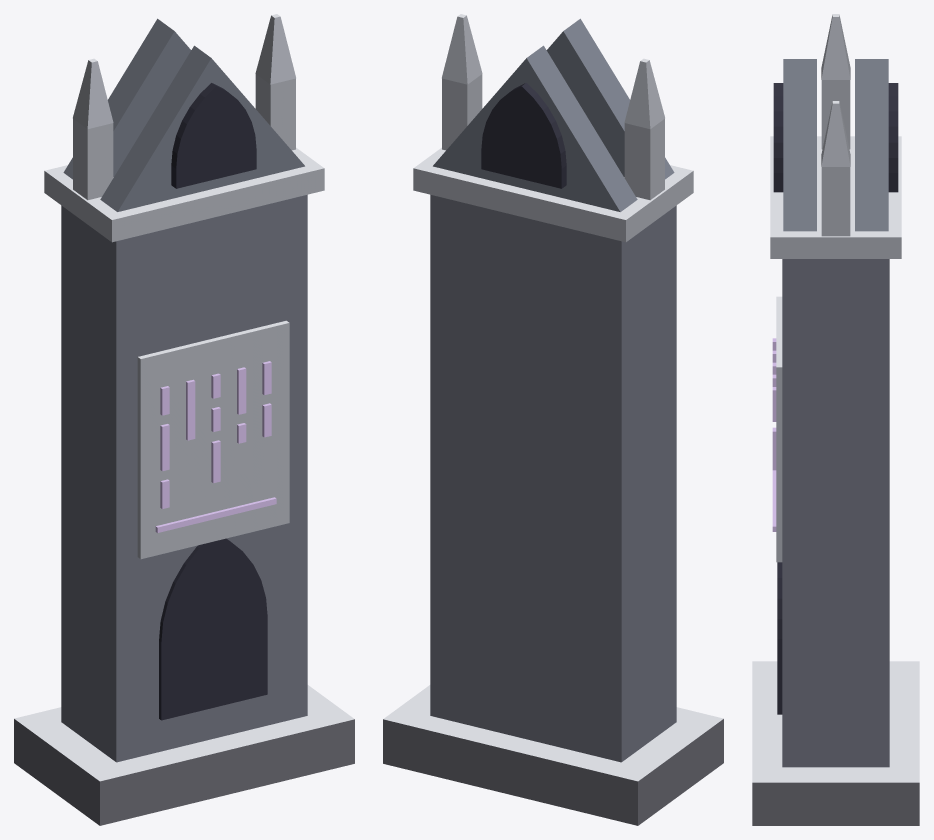
Rendered from PR_Marco_Entrada.fbx.
3 views of the same model, side by side, from view 1: azimuth 30°, elevation 25°; view 2: azimuth 150°, elevation 25°; view 3: azimuth 270°, elevation 25° (orthographic). The views are drawn at different scales.
Parts seen in each view (by area): view 1: PR_Marco_Entrada; view 2: PR_Marco_Entrada; view 3: PR_Marco_Entrada.
Boxes of the visible parts, box(x1,y1,x2,y2) form: PR_Marco_Entrada: box(14, 14, 354, 825); PR_Marco_Entrada: box(383, 14, 723, 825); PR_Marco_Entrada: box(752, 14, 919, 825).
Bounding box in the file's own units: 1.2 × 3.26 × 0.7.
